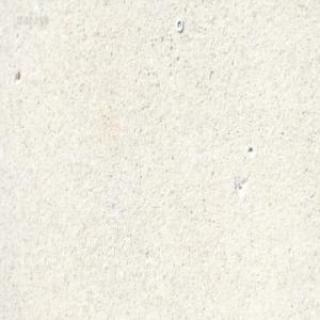Washertrack_idkeyframe: (175, 16, 182, 32)
